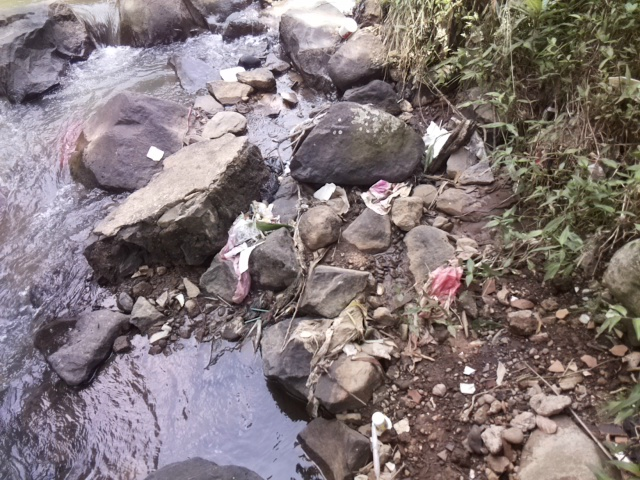Sampah_Plastik: (217, 198, 277, 309), (424, 260, 464, 327), (362, 179, 410, 211)
Sampah_Styrofoam: (423, 121, 447, 160), (312, 180, 339, 205), (369, 410, 391, 433), (219, 67, 246, 83), (144, 145, 167, 163)
